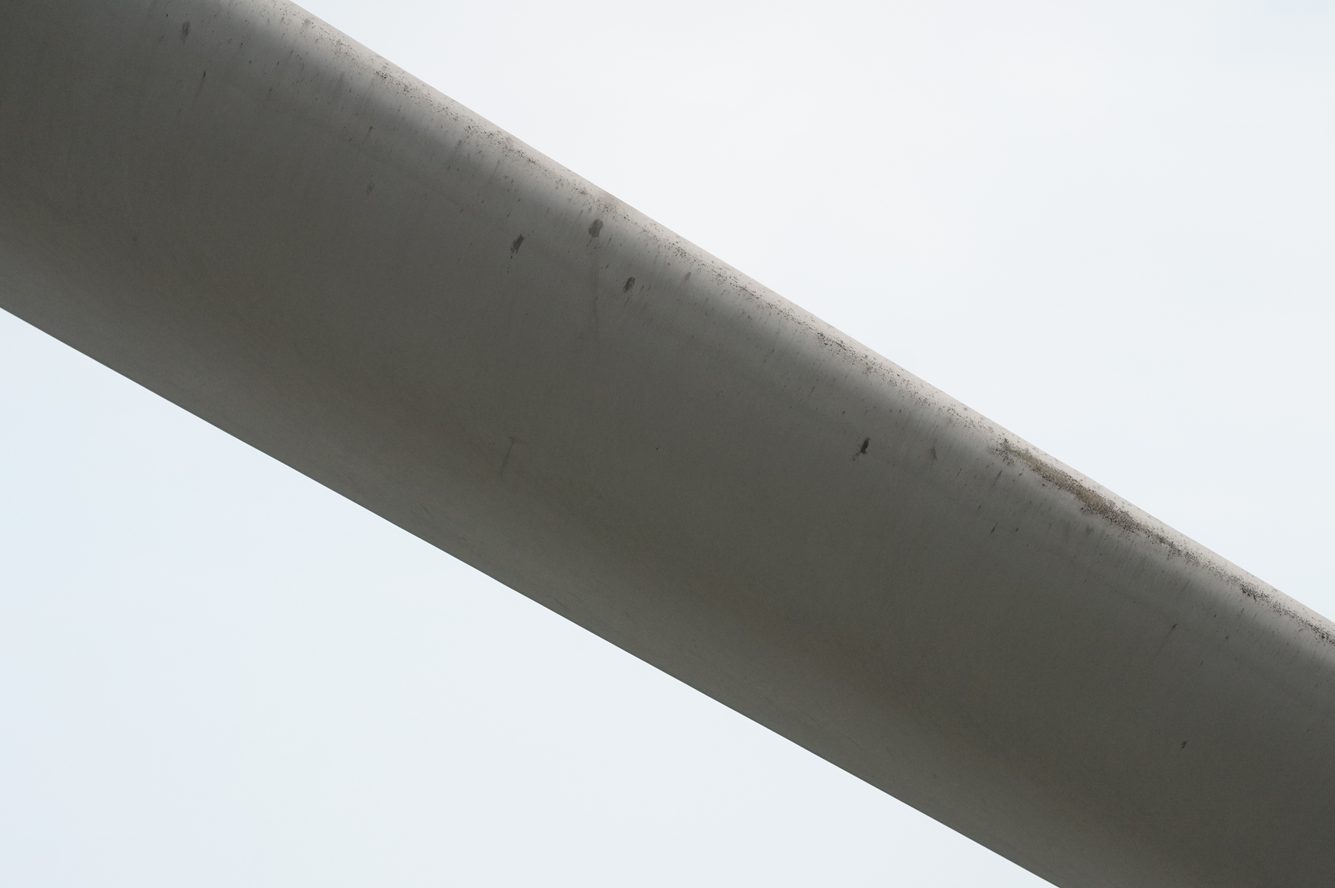Damage: (988, 432, 1141, 535)
